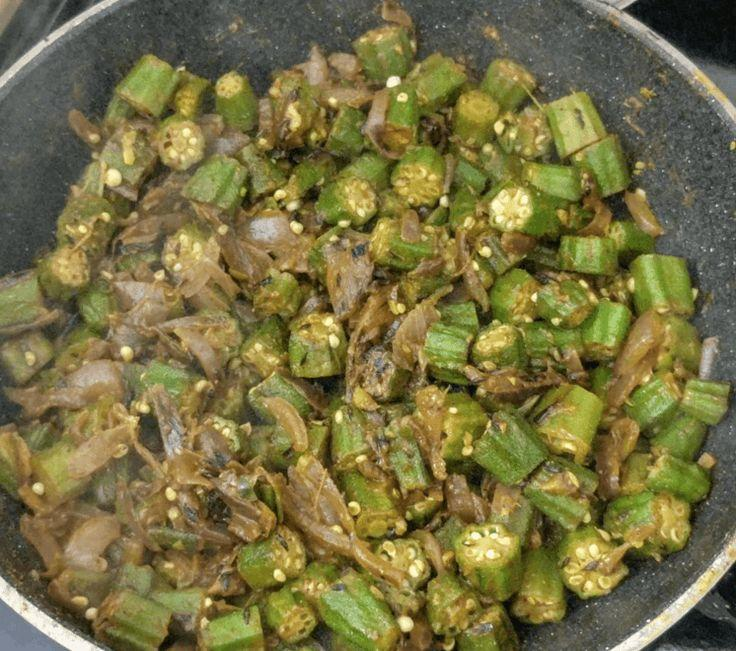bhindi: (88, 125, 603, 630)
